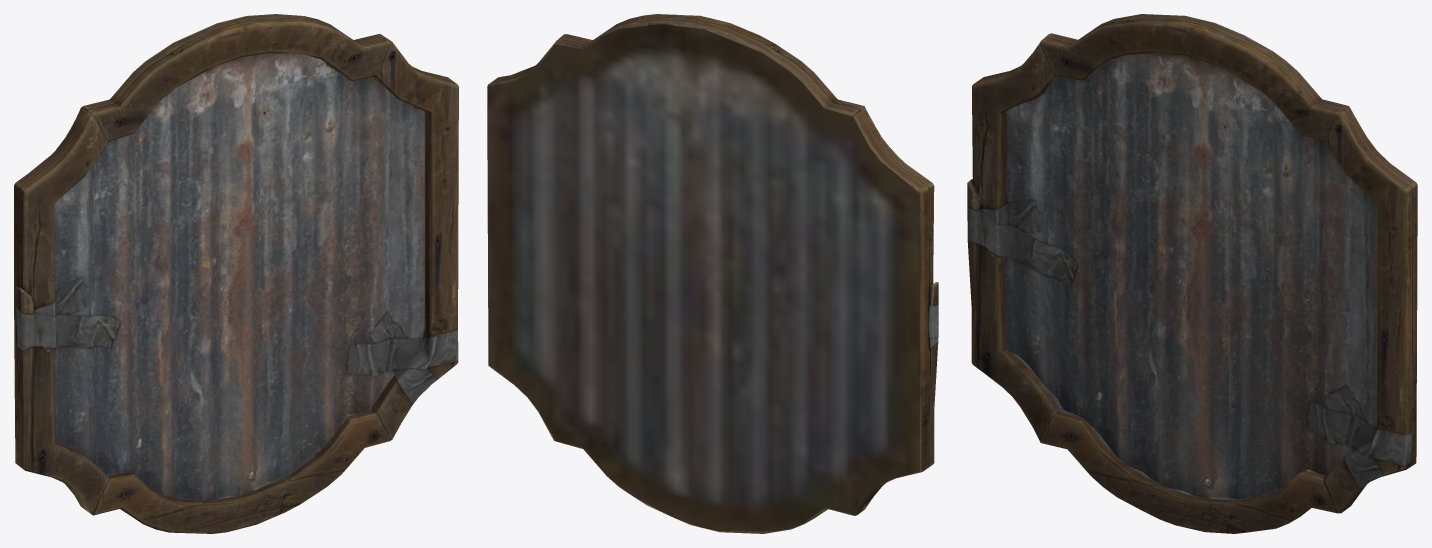
File: huntingtrophylarge.deployed.glb
3 renders of one model, left to right at view 1: azimuth 30°, elevation 25°; view 2: azimuth 150°, elevation 25°; view 3: azimuth 330°, elevation 25°, orthographic.
Visible parts, largest first — view 1: TrophyFrameLarge_LOD0; view 2: TrophyFrameLarge_LOD0; view 3: TrophyFrameLarge_LOD0.
Part boxes in pixels (x1=…): TrophyFrameLarge_LOD0: x1=14, y1=14, x2=458, y2=533; TrophyFrameLarge_LOD0: x1=487, y1=14, x2=938, y2=533; TrophyFrameLarge_LOD0: x1=967, y1=14, x2=1417, y2=533.
Size of the model in its own units: 0.7881 by 0.8597 by 0.0502.
1 material, 1 textured.
